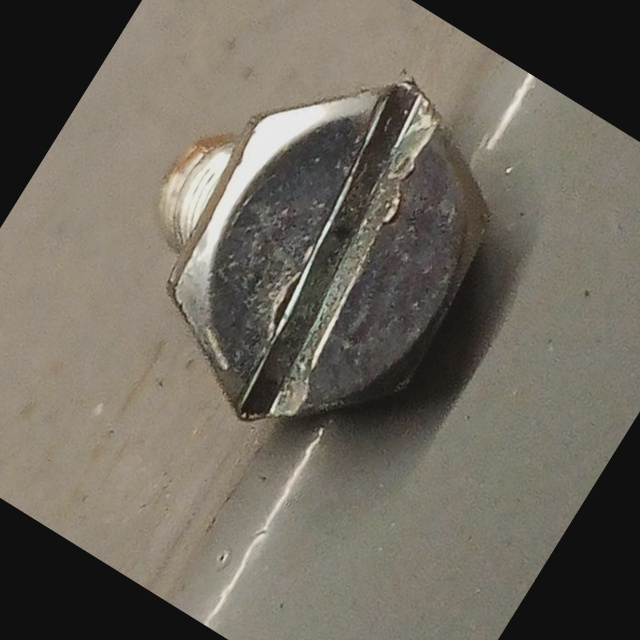duz: (112, 17, 554, 490)
